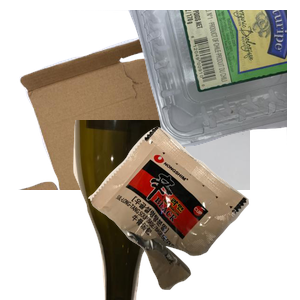cardboard: (16, 10, 256, 190)
glass: (71, 120, 254, 300)
plastic: (60, 10, 300, 149)
trash: (86, 124, 300, 300)
